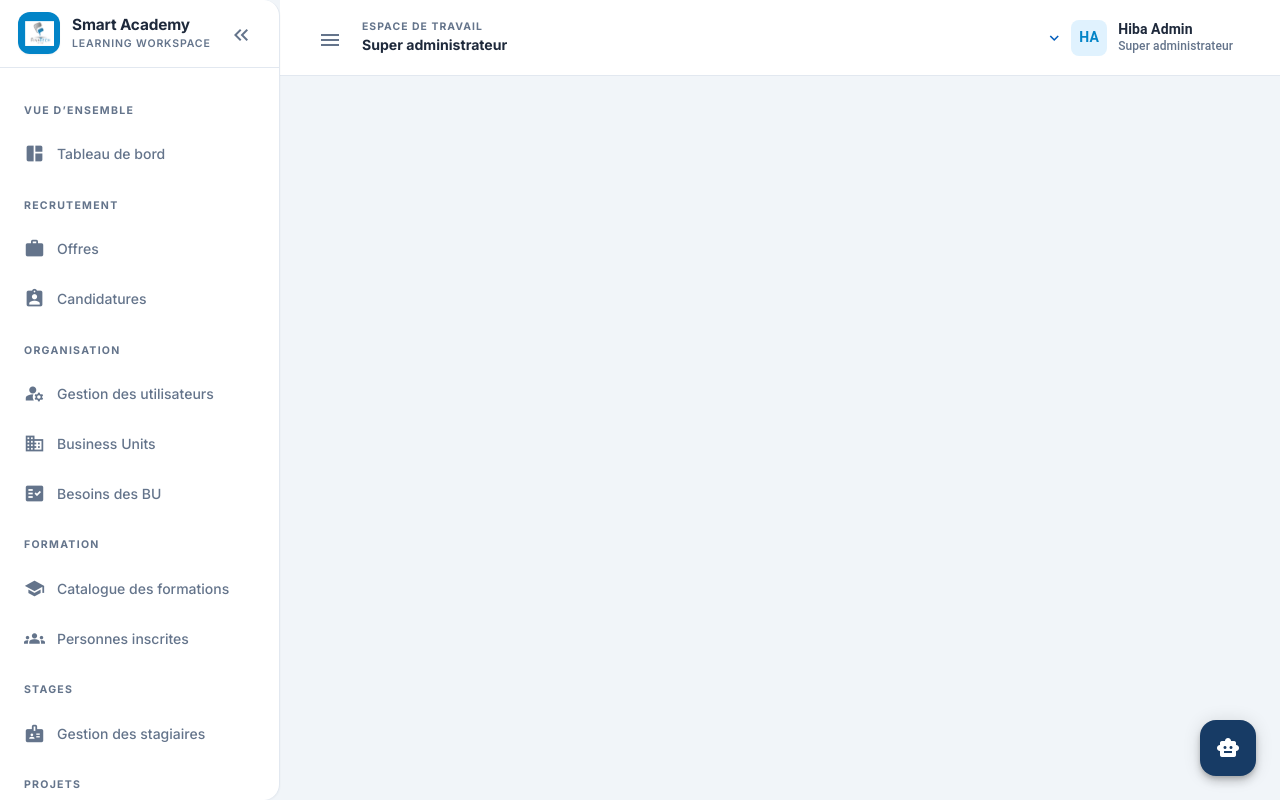
MainLayoutComponent › renders routed content after one navigation click
Click the link to "/applications" at (85, 299), box [24,288,146,309]
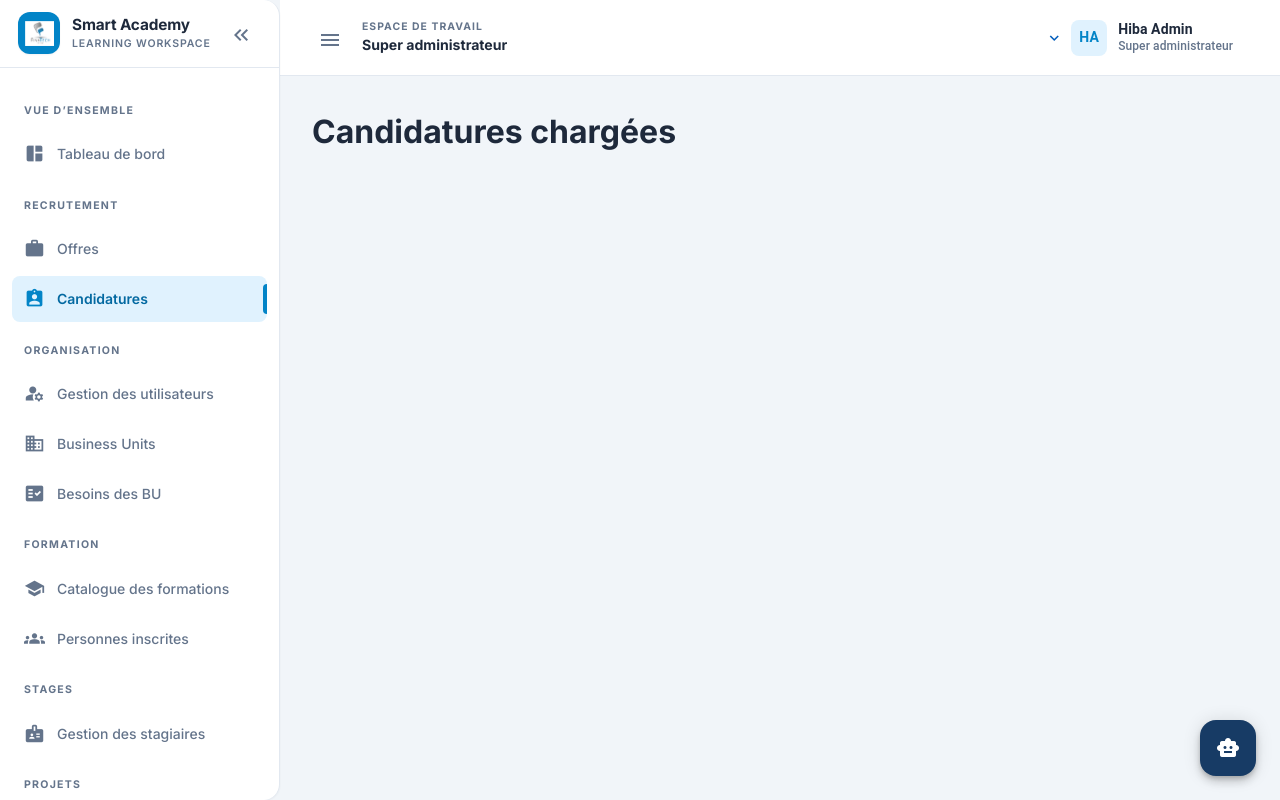
Result: the text "Candidatures chargées" is shown at [312,112,676,151]
